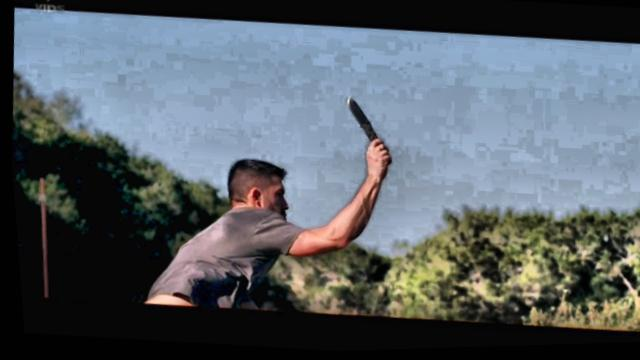knife: (334, 92, 399, 173)
